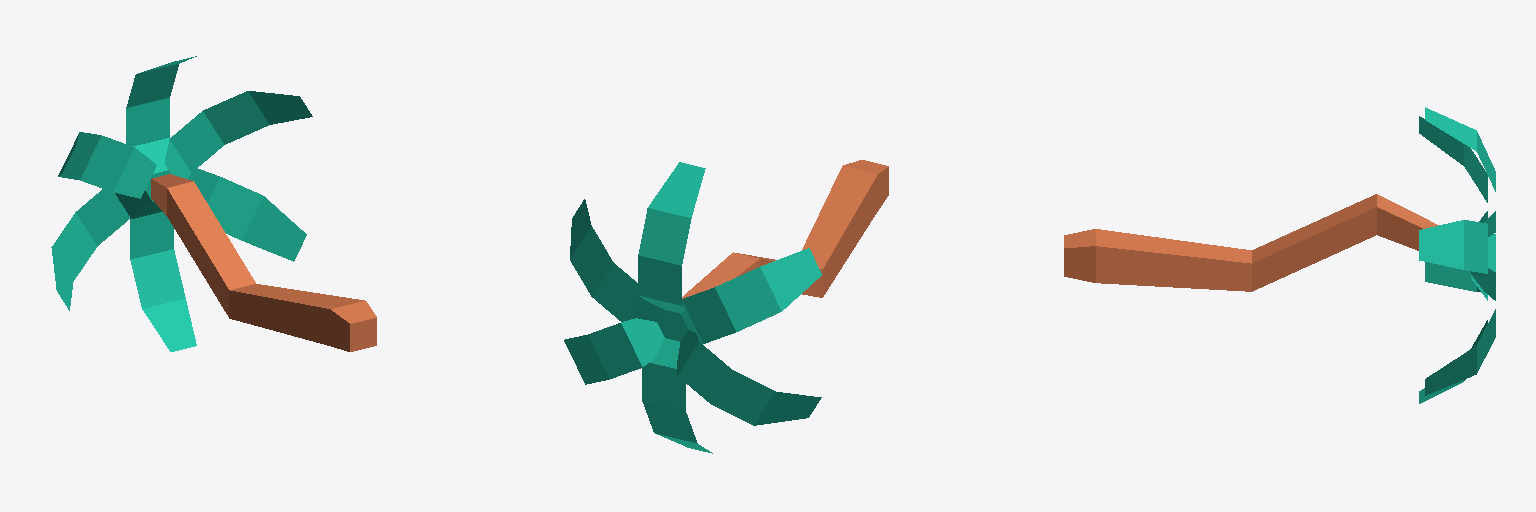
Rendered from tree_palmBend.obj.
3 views of the same model, side by side, from view 1: azimuth 30°, elevation 25°; view 2: azimuth 150°, elevation 25°; view 3: azimuth 270°, elevation 25° (orthographic).
Visible parts, largest first — view 1: tree_palmBend.002; view 2: tree_palmBend.002; view 3: tree_palmBend.002.
Part boxes in pixels (left/top/right/bottom): tree_palmBend.002: left=51, top=56, right=376, bottom=351; tree_palmBend.002: left=564, top=160, right=888, bottom=453; tree_palmBend.002: left=1064, top=107, right=1495, bottom=403.
Size of the model in its own units: 0.9355 by 1.01 by 1.38.